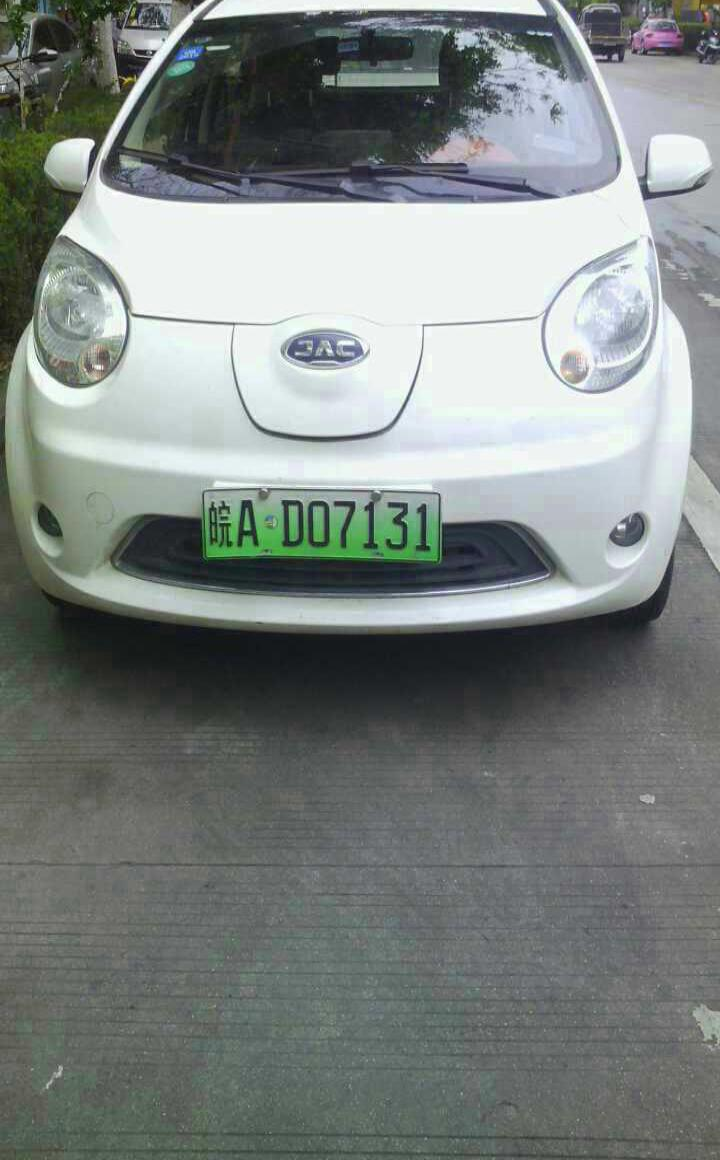car_id: (200, 488, 443, 562)
